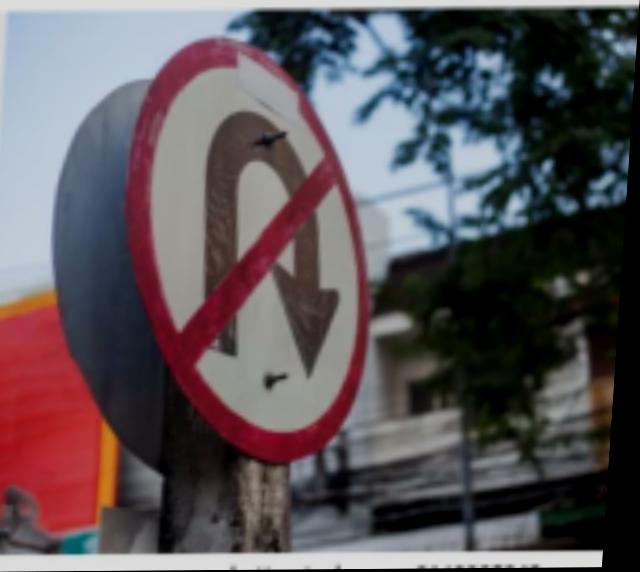not_u_turn_right: (131, 38, 396, 473)
